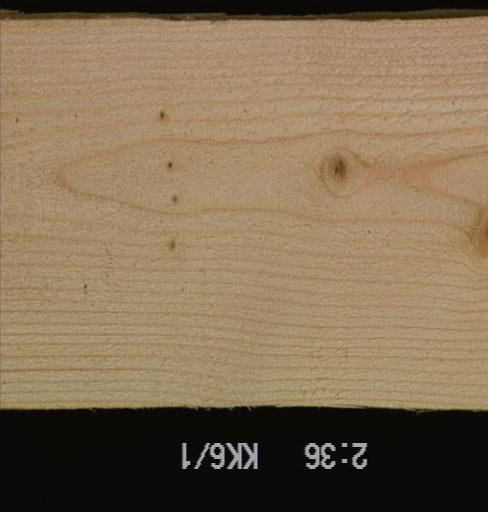small_knot: (153, 152, 179, 175), (147, 102, 169, 129), (161, 235, 181, 258), (163, 189, 182, 212)
sound_knot: (310, 145, 365, 198), (469, 210, 486, 269)
